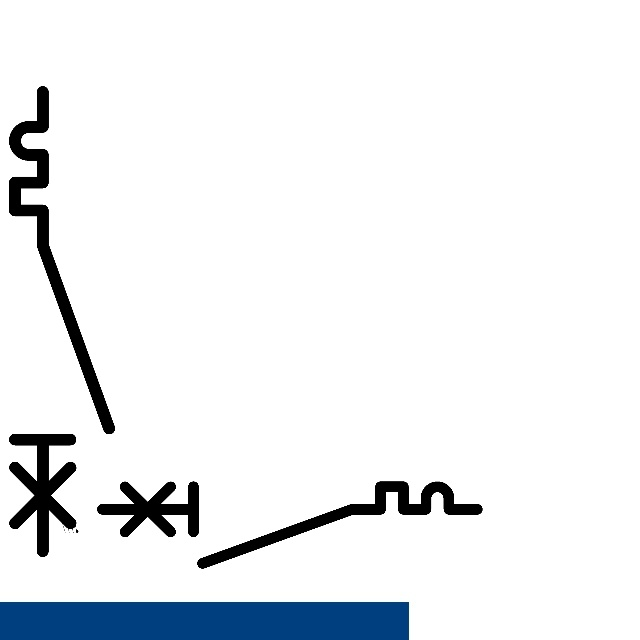interruptor_termomagnetico: (3, 80, 121, 563), (92, 477, 487, 573)
